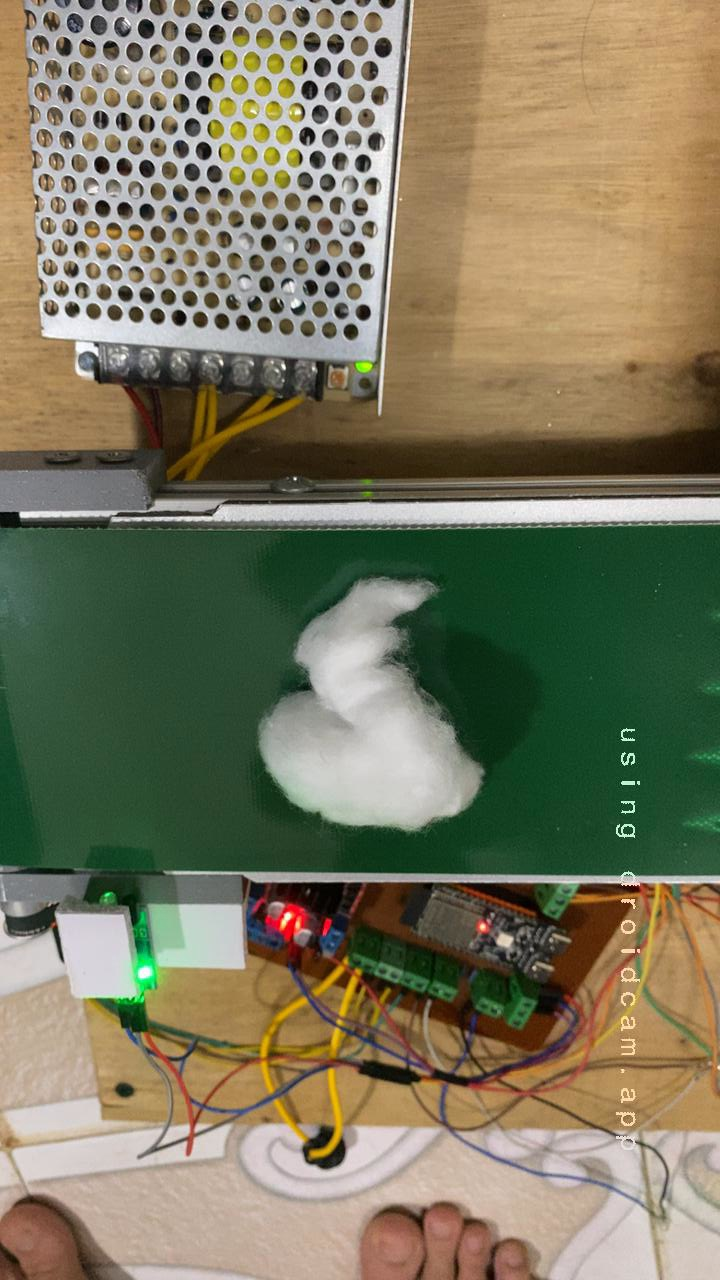cotton: (229, 547, 499, 846)
